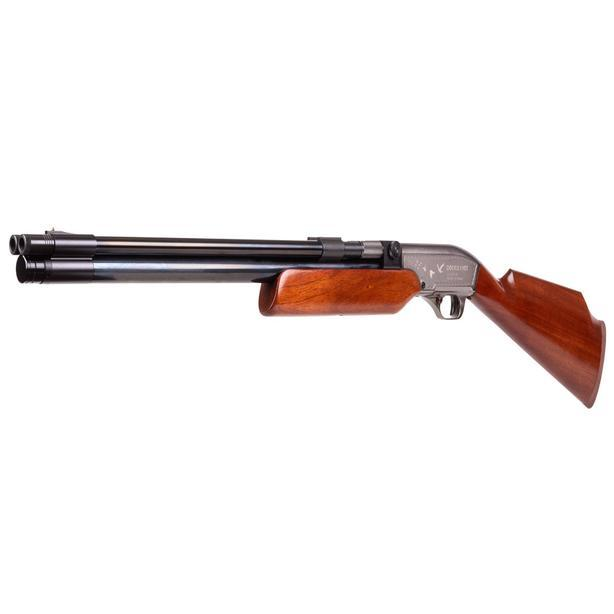Firearm: (0, 183, 613, 438)
